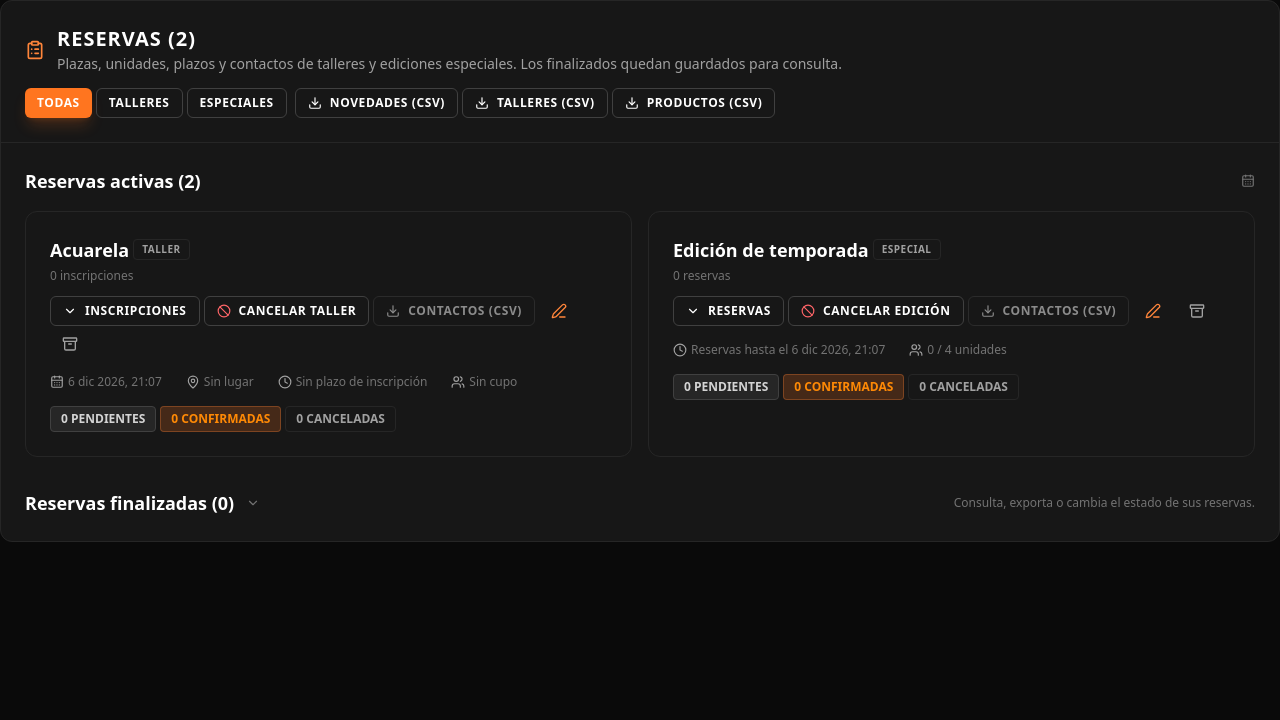
Test: AdminWorkshopsPanel › filtra las reservas por categoría desde la cabecera
Expected: the heading "Acuarela" is shown, x1=50 y1=236 x2=129 y2=264
Expected: the heading "Edición de temporada" is shown, x1=673 y1=236 x2=869 y2=264
Click the button "Talleres" at (139, 103), box x1=96 y1=88 x2=182 y2=118
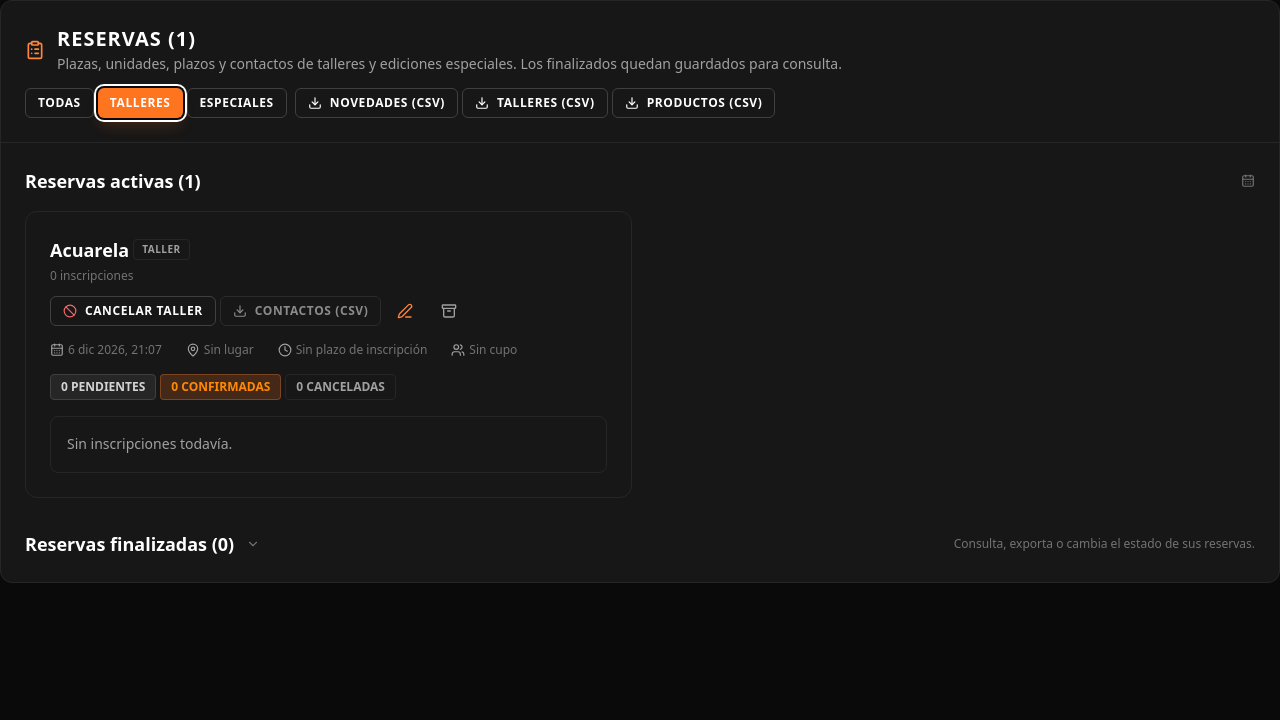
Expected: the heading "Acuarela" is shown, x1=50 y1=236 x2=129 y2=264
Now the heading "Edición de temporada" is gone
Click the button "Especiales" at (237, 103), box x1=186 y1=88 x2=287 y2=118
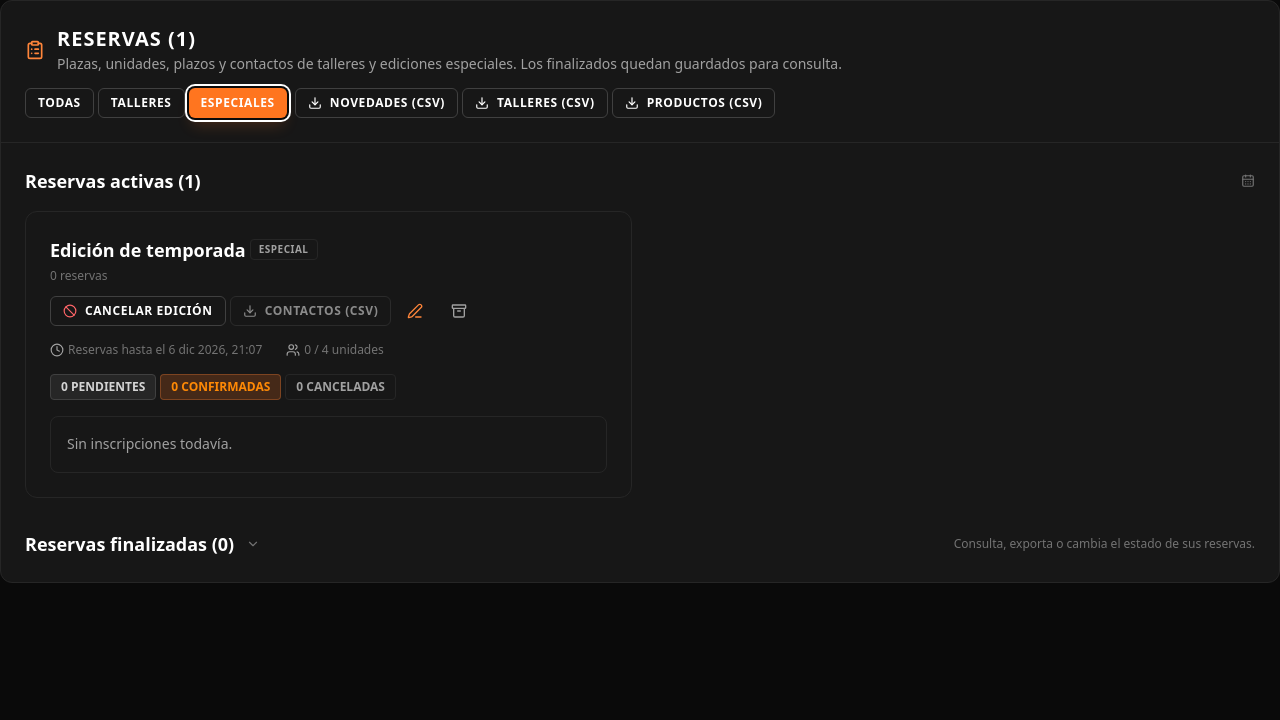
Now the heading "Acuarela" is gone
Now the heading "Edición de temporada" is shown, box x1=50 y1=236 x2=246 y2=264
Click the button "Todas" at (59, 103), box x1=25 y1=88 x2=94 y2=118
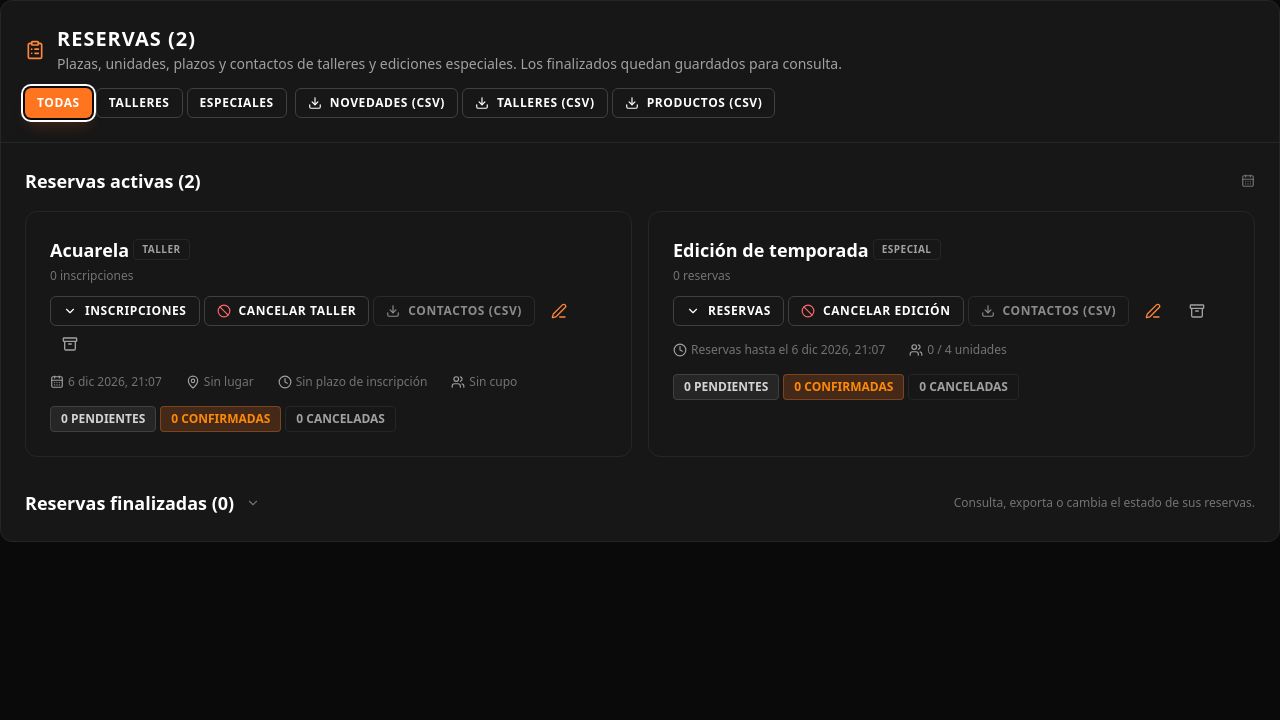
Now the heading "Acuarela" is shown, box x1=50 y1=236 x2=129 y2=264
